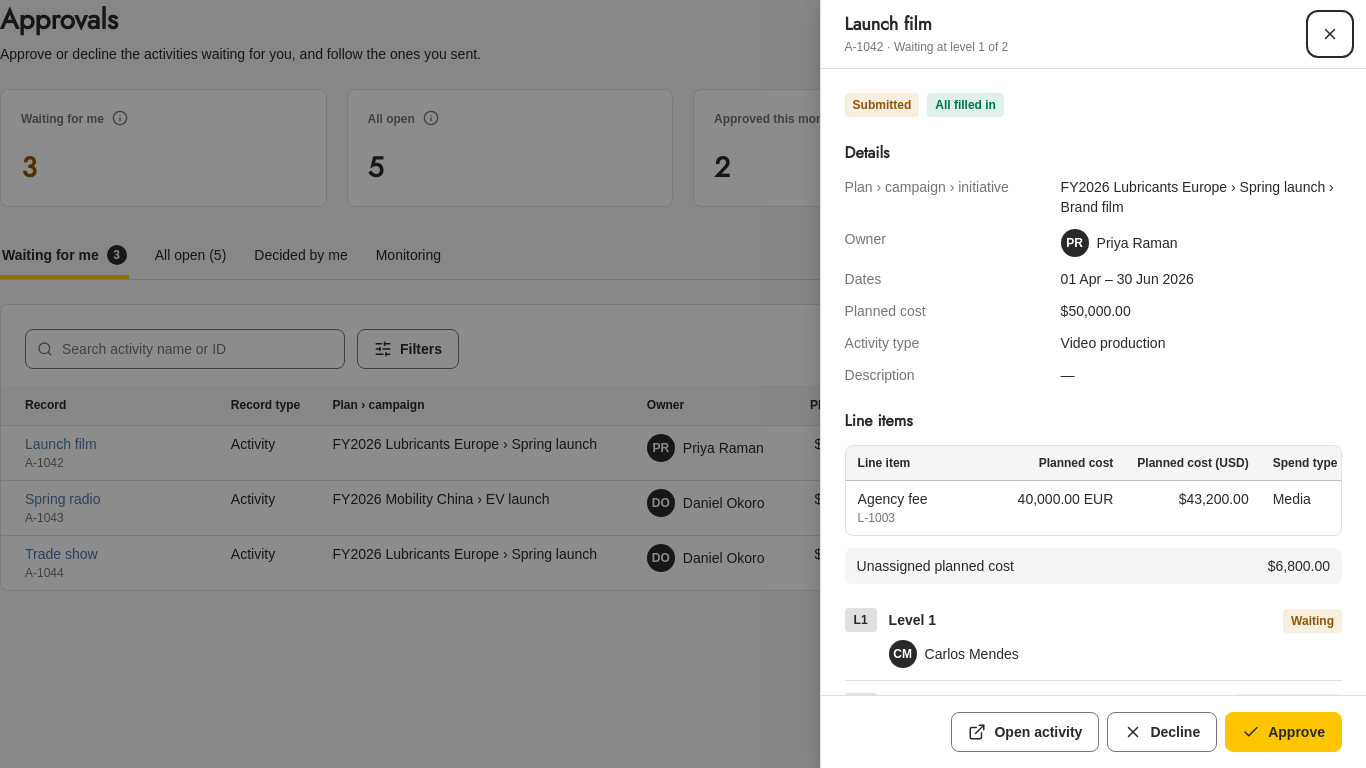
Test: ApprovalsPage (feature 008, US3) › after Approve in the preview, says so and moves on to the next row (FR-032)
expect the button "Launch film" is shown: met, box [25,434,97,454]
What coordinates should you click on to do the following:
click the button "Approve"
I would click on:
 (1284, 732)
Its box is [1225,712,1342,752].
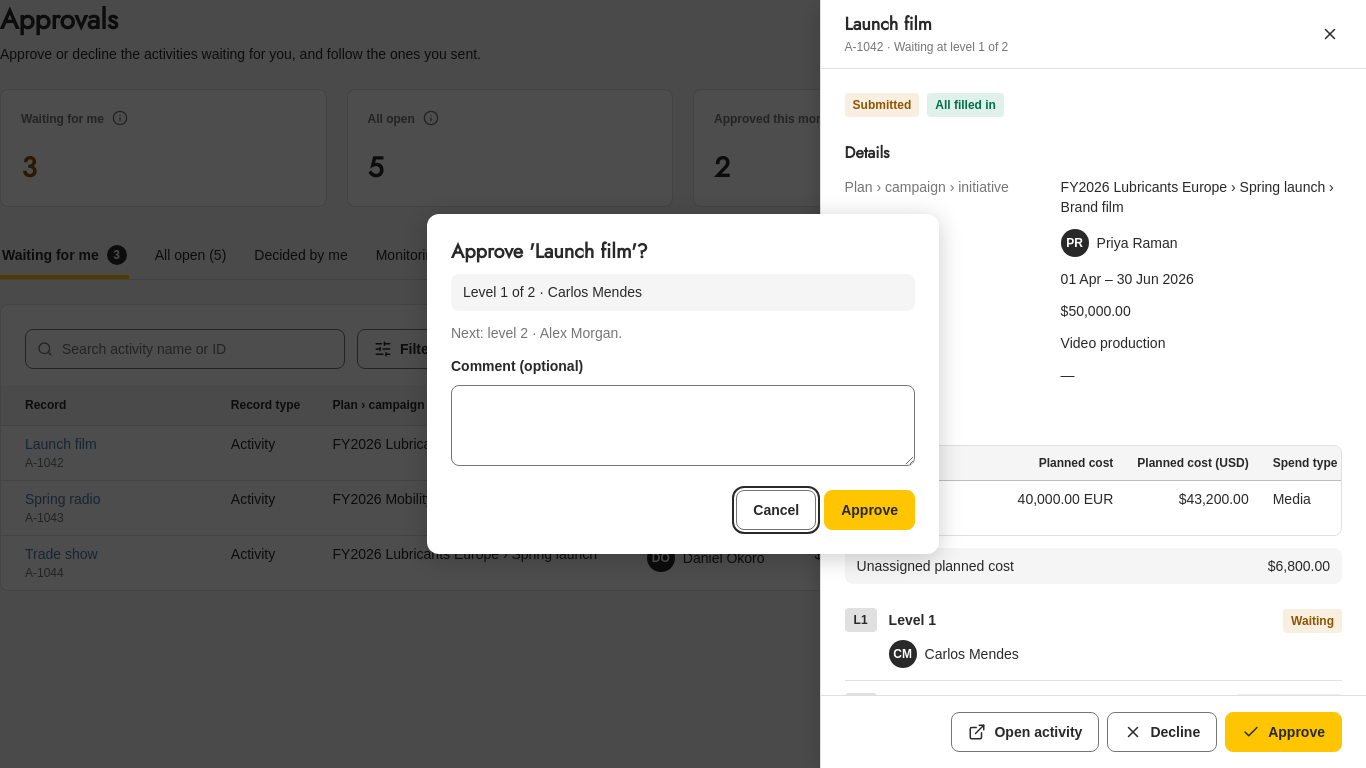
What coordinates should you click on to do the following:
click the button "Approve"
I would click on:
 (870, 510)
Its box is [824,490,915,530].
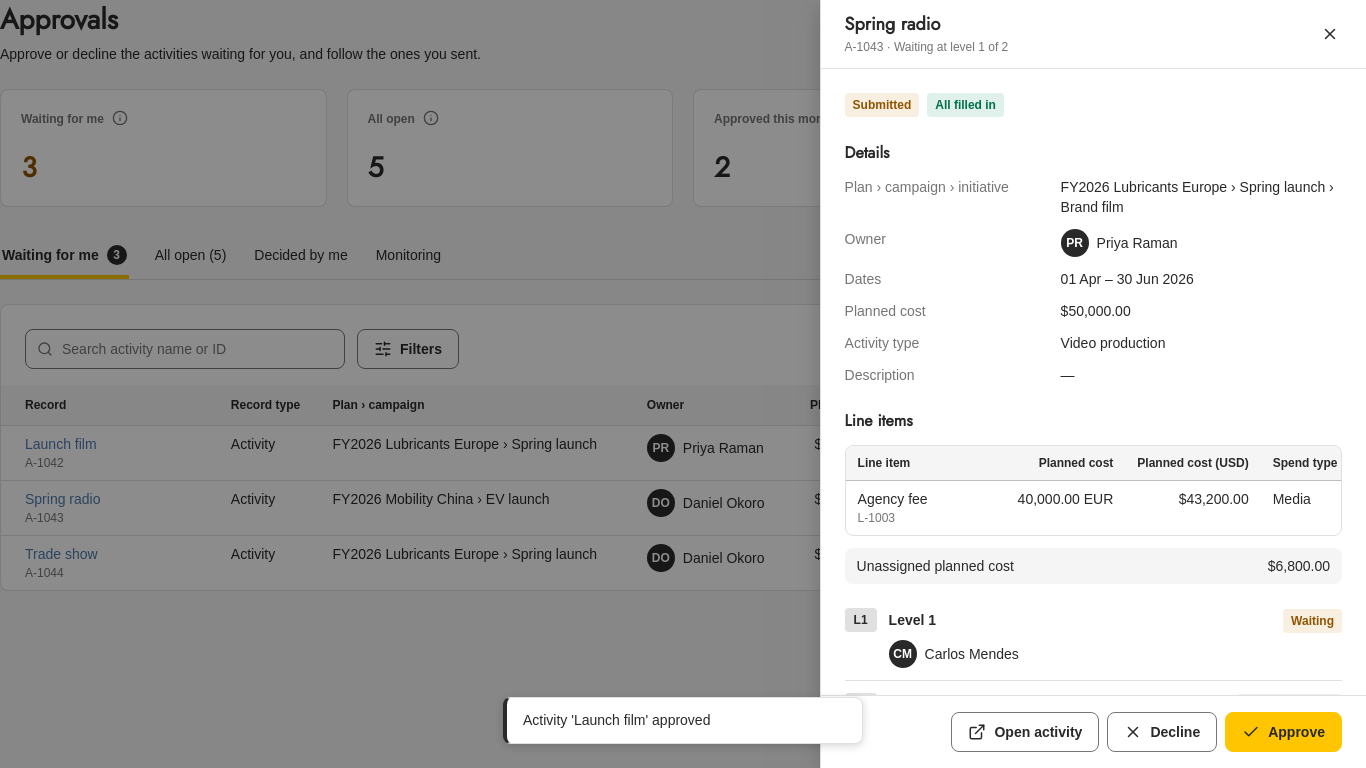
expect the text "Activity 'Launch film' approved" is shown: met, box [523,712,710,728]
expect the dialog "Spring radio" is shown: met, box [820,0,1365,767]
